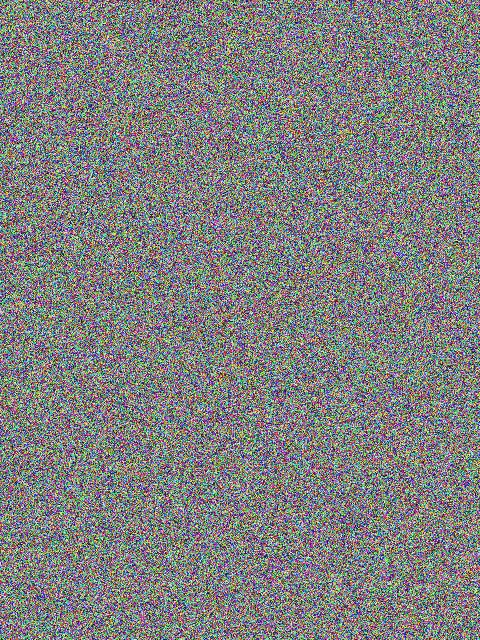dog: (124, 249, 233, 327)
